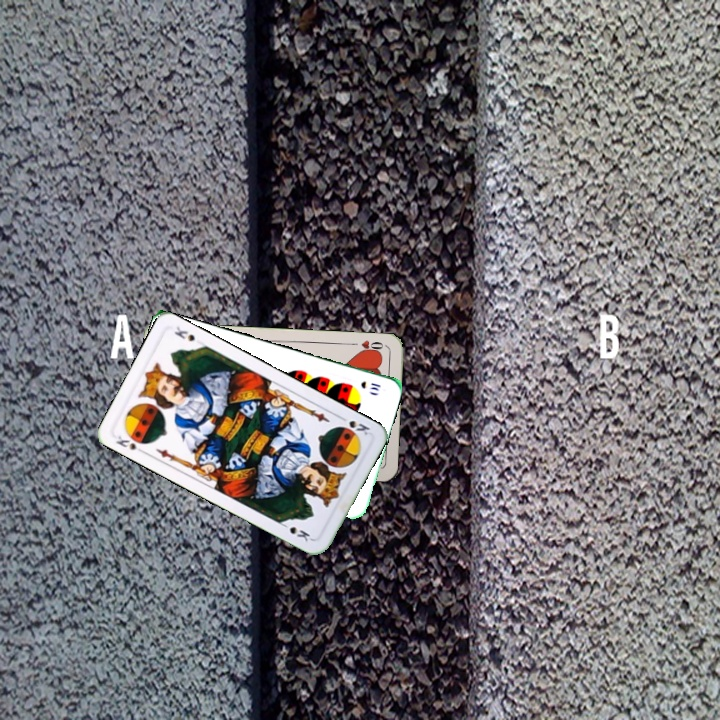HO: (347, 336, 387, 356)
S10: (356, 377, 383, 394)
SK: (335, 412, 372, 438), (112, 432, 148, 455)
